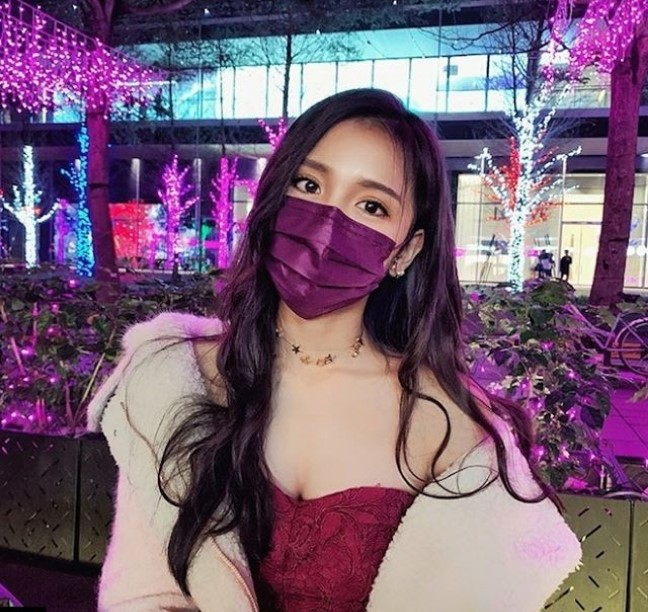face_with_mask: (245, 89, 443, 323)
